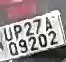0: (7, 43, 18, 58), (39, 34, 49, 49)
2: (26, 36, 38, 52), (49, 31, 59, 47), (25, 22, 33, 37)
7: (33, 18, 43, 35)
9: (18, 39, 29, 54)
A: (44, 16, 53, 32)
P: (13, 23, 21, 40)
U: (4, 26, 12, 42)
